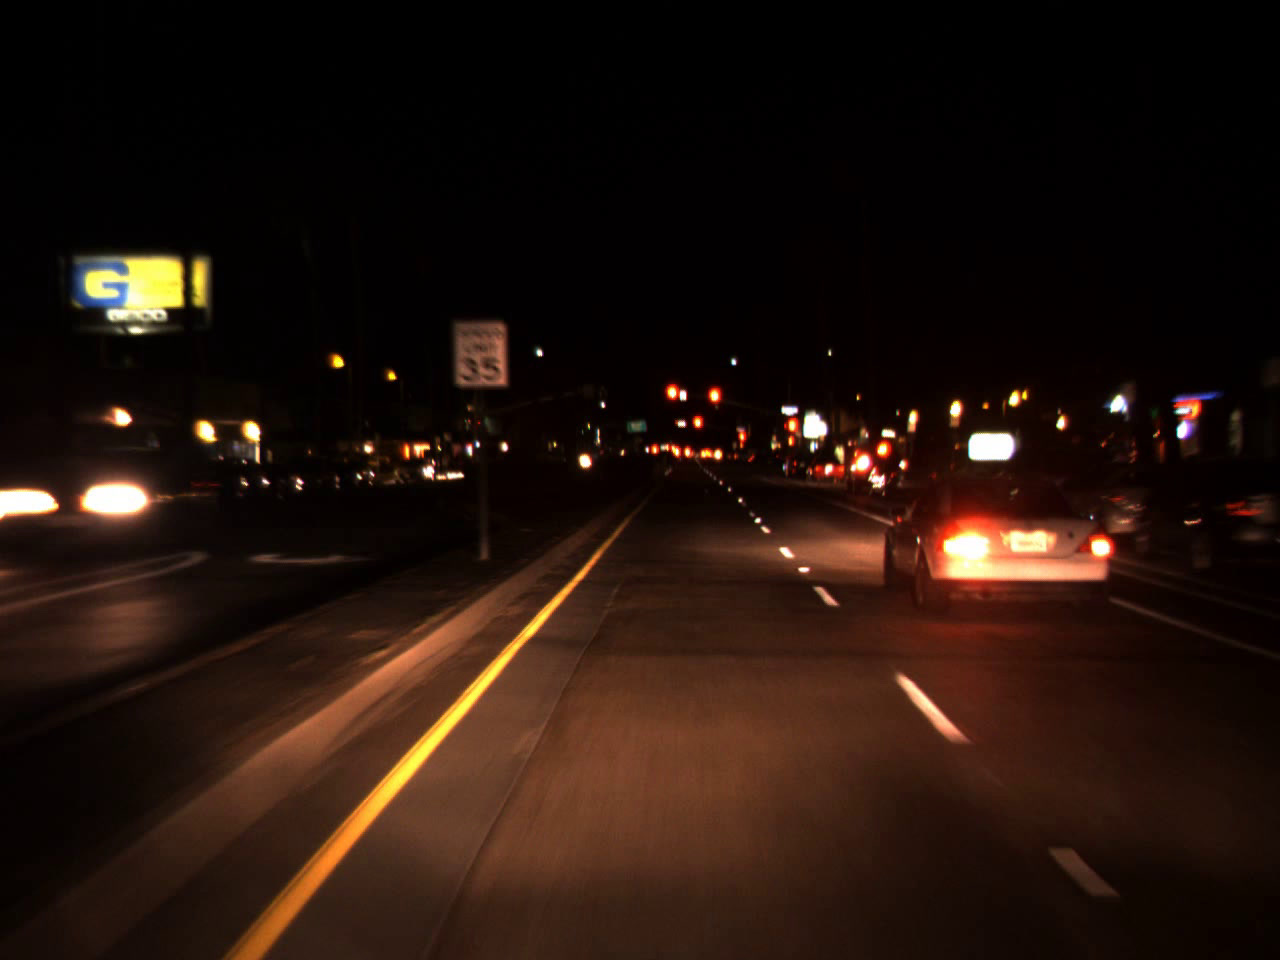stop: (663, 380, 682, 423), (706, 384, 722, 421), (736, 426, 748, 471), (690, 414, 703, 443), (788, 420, 795, 441)
